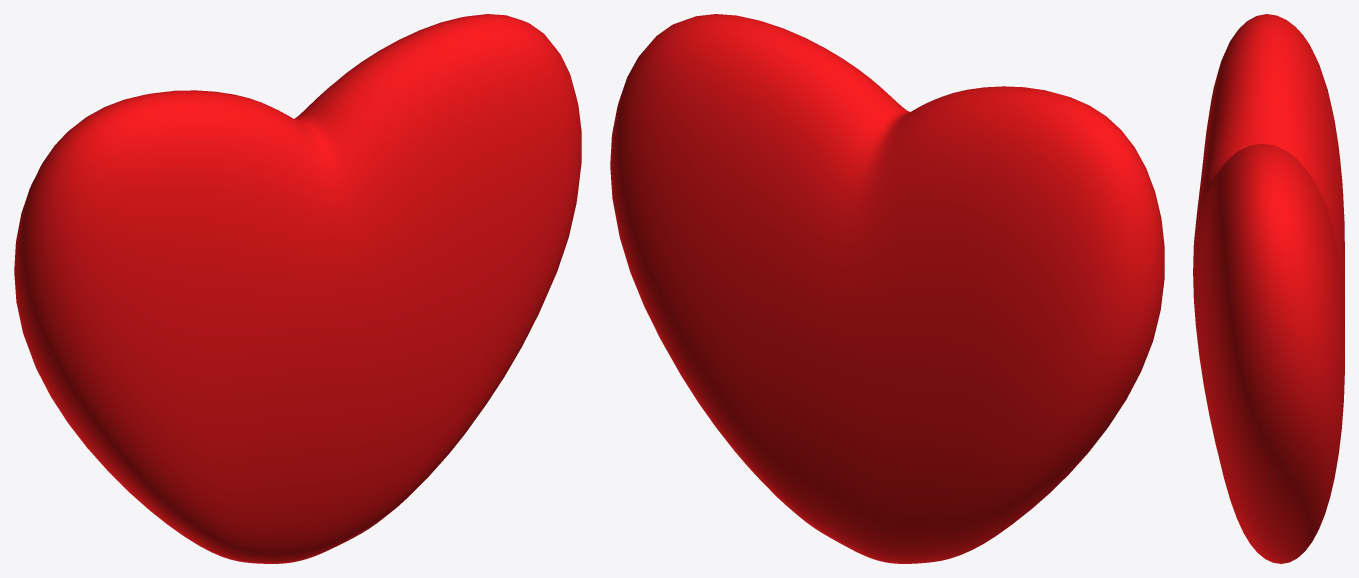
File: Heart.glb
3 renders of one model, left to right at view 1: azimuth 30°, elevation 25°; view 2: azimuth 150°, elevation 25°; view 3: azimuth 270°, elevation 25°, orthographic. The views are drawn at different scales.
Parts seen in each view (by area): view 1: Plane; view 2: Plane; view 3: Plane.
Part boxes in pixels (x1,y1,x2,y2): Plane: (14,14,581,563); Plane: (610,14,1164,563); Plane: (1193,14,1344,563).
Size of the model in its own units: 2.2 by 1.93 by 0.5852.
